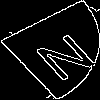N: (24, 25, 100, 83)
